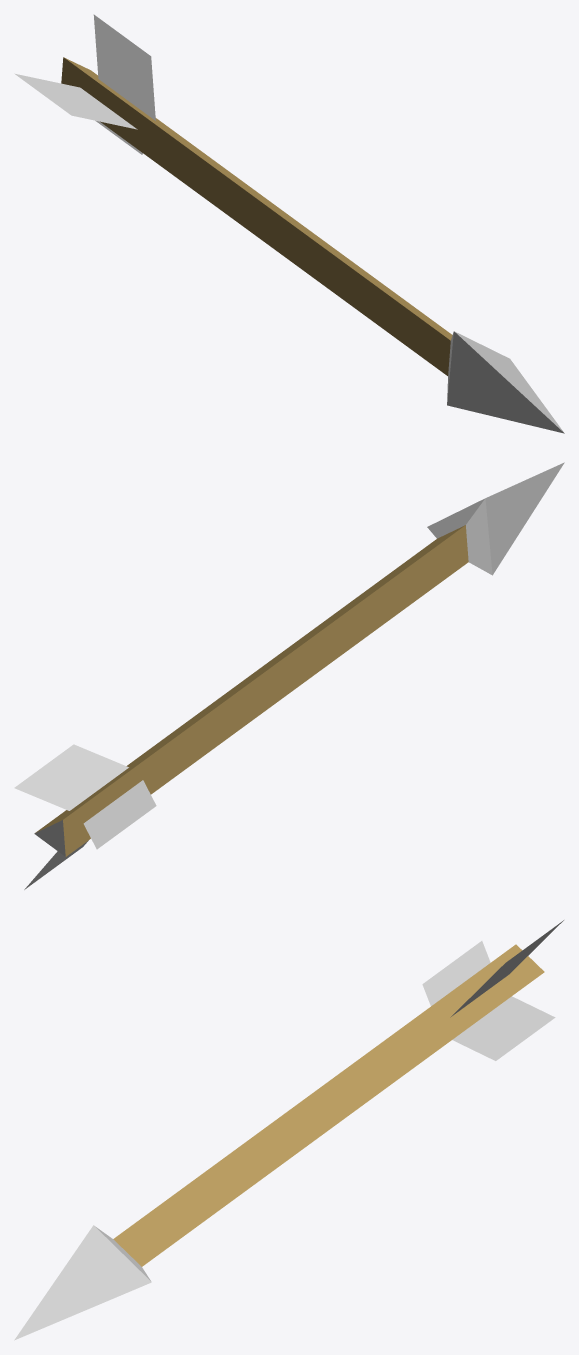
Rendered from arrow.fbx.
The picture shows the model from 3 angles, top to bottom: view 1: azimuth 30°, elevation 25°; view 2: azimuth 150°, elevation 25°; view 3: azimuth 330°, elevation 25°; orthographic projection. The views are drawn at different scales.
Visible parts, largest first — view 1: polySurface1; view 2: polySurface1; view 3: polySurface1.
Boxes of the visible parts, x1,y1,x2,y2 form: polySurface1: (14,14,564,433); polySurface1: (14,462,564,889); polySurface1: (14,920,563,1340).
Size of the model in its own units: 0.8197 by 0.8473 by 7.96.
